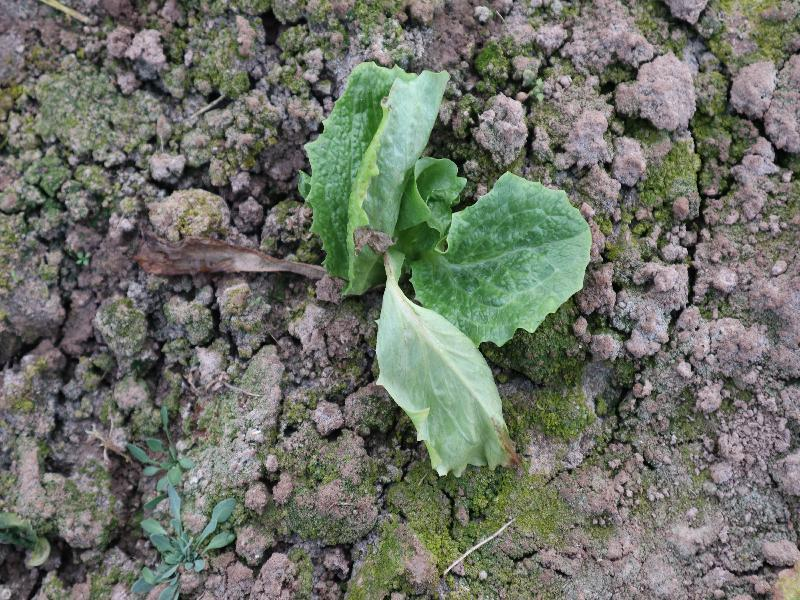lettuce: (295, 59, 590, 475)
